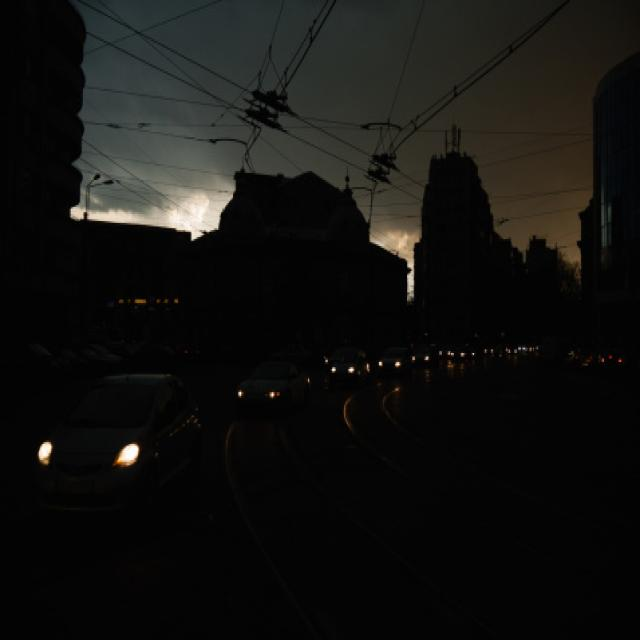Car: (39, 352, 256, 538)
